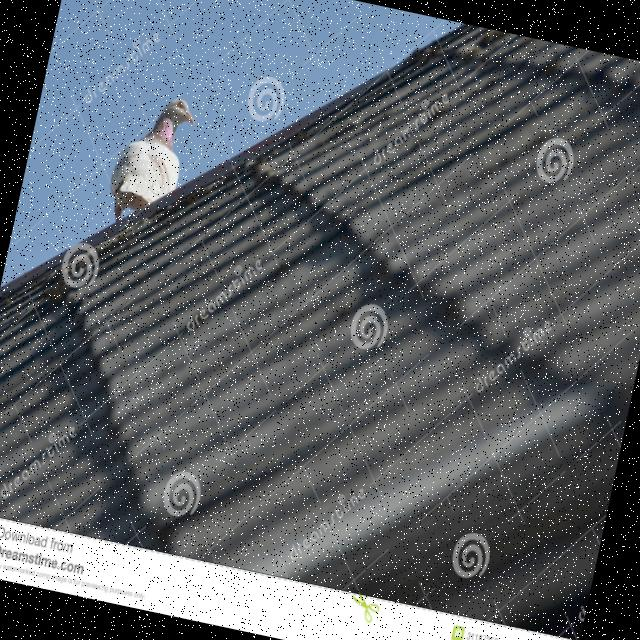bird: (98, 83, 202, 238)
